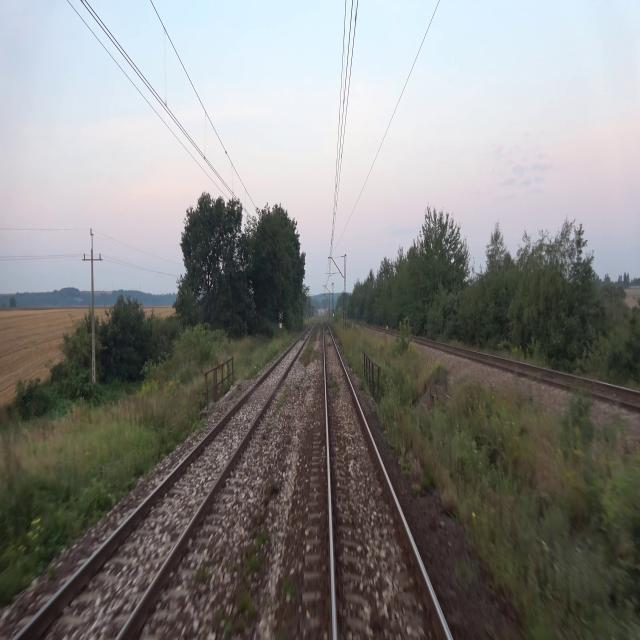rail-track: (19, 328, 310, 639), (324, 321, 447, 639), (466, 352, 640, 402)
